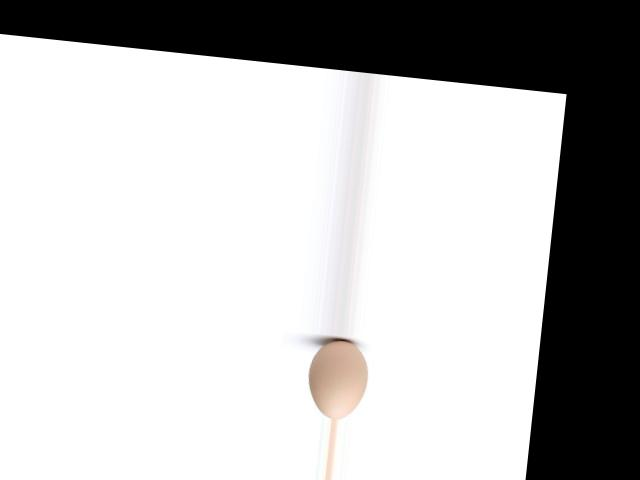egg: (305, 336, 372, 421)
